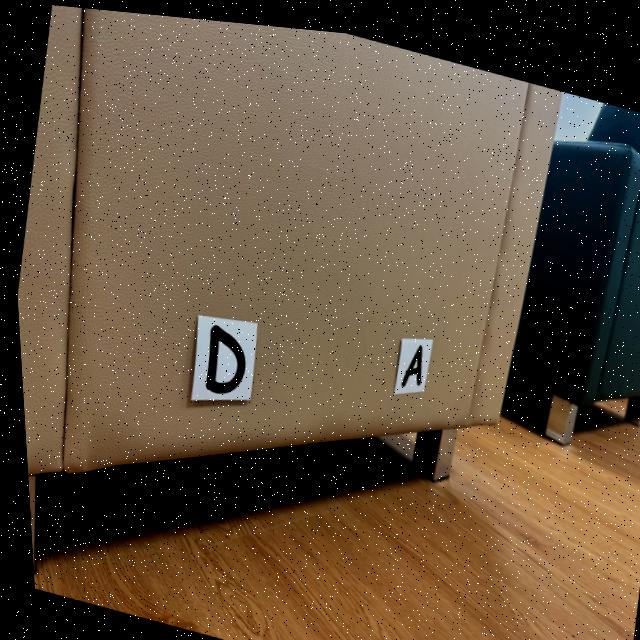A: (396, 336, 419, 379)
D: (201, 320, 241, 390)
